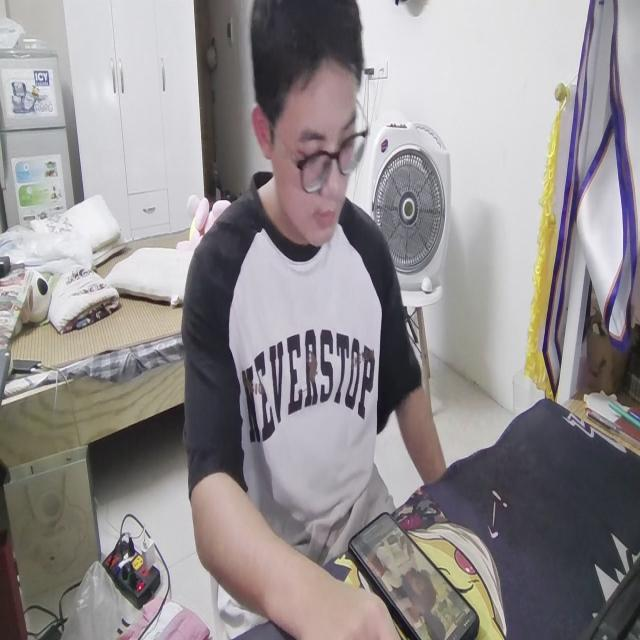phone: (348, 508, 480, 640)
student: (179, 0, 446, 640)
